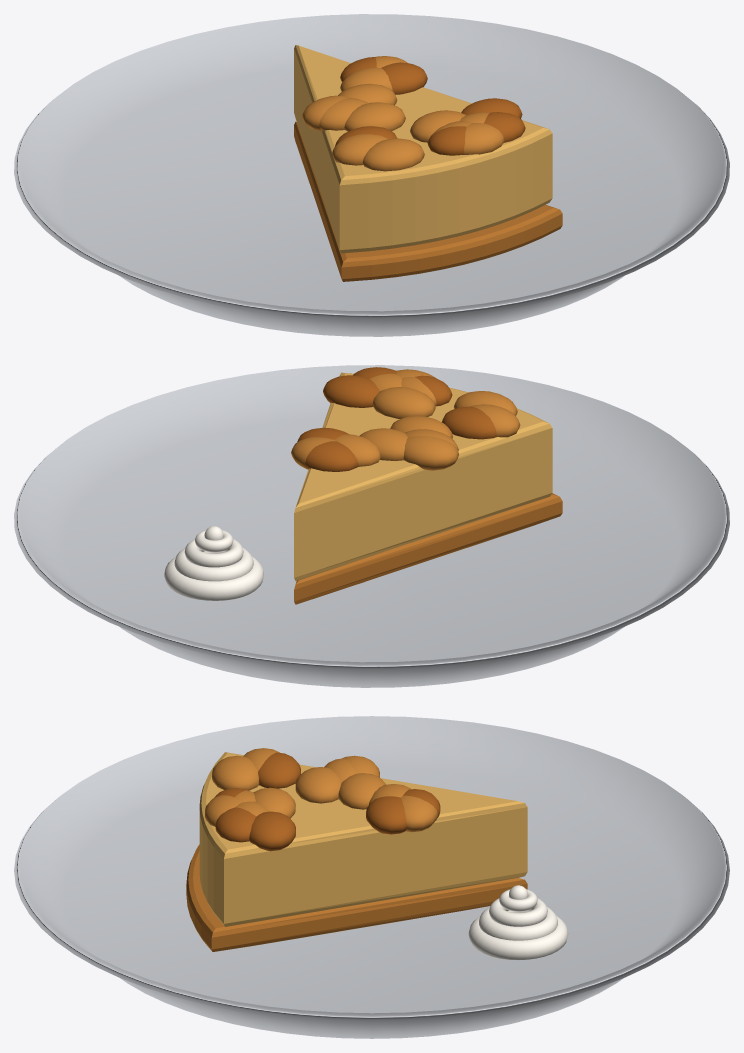
Rendered from alba-apple-pie.glb.
3 renders of one model, top to bottom at view 1: azimuth 30°, elevation 25°; view 2: azimuth 150°, elevation 25°; view 3: azimuth 270°, elevation 25°, orthographic.
Bounding box in the file's own units: 0.22 × 0.0443 × 0.22.
